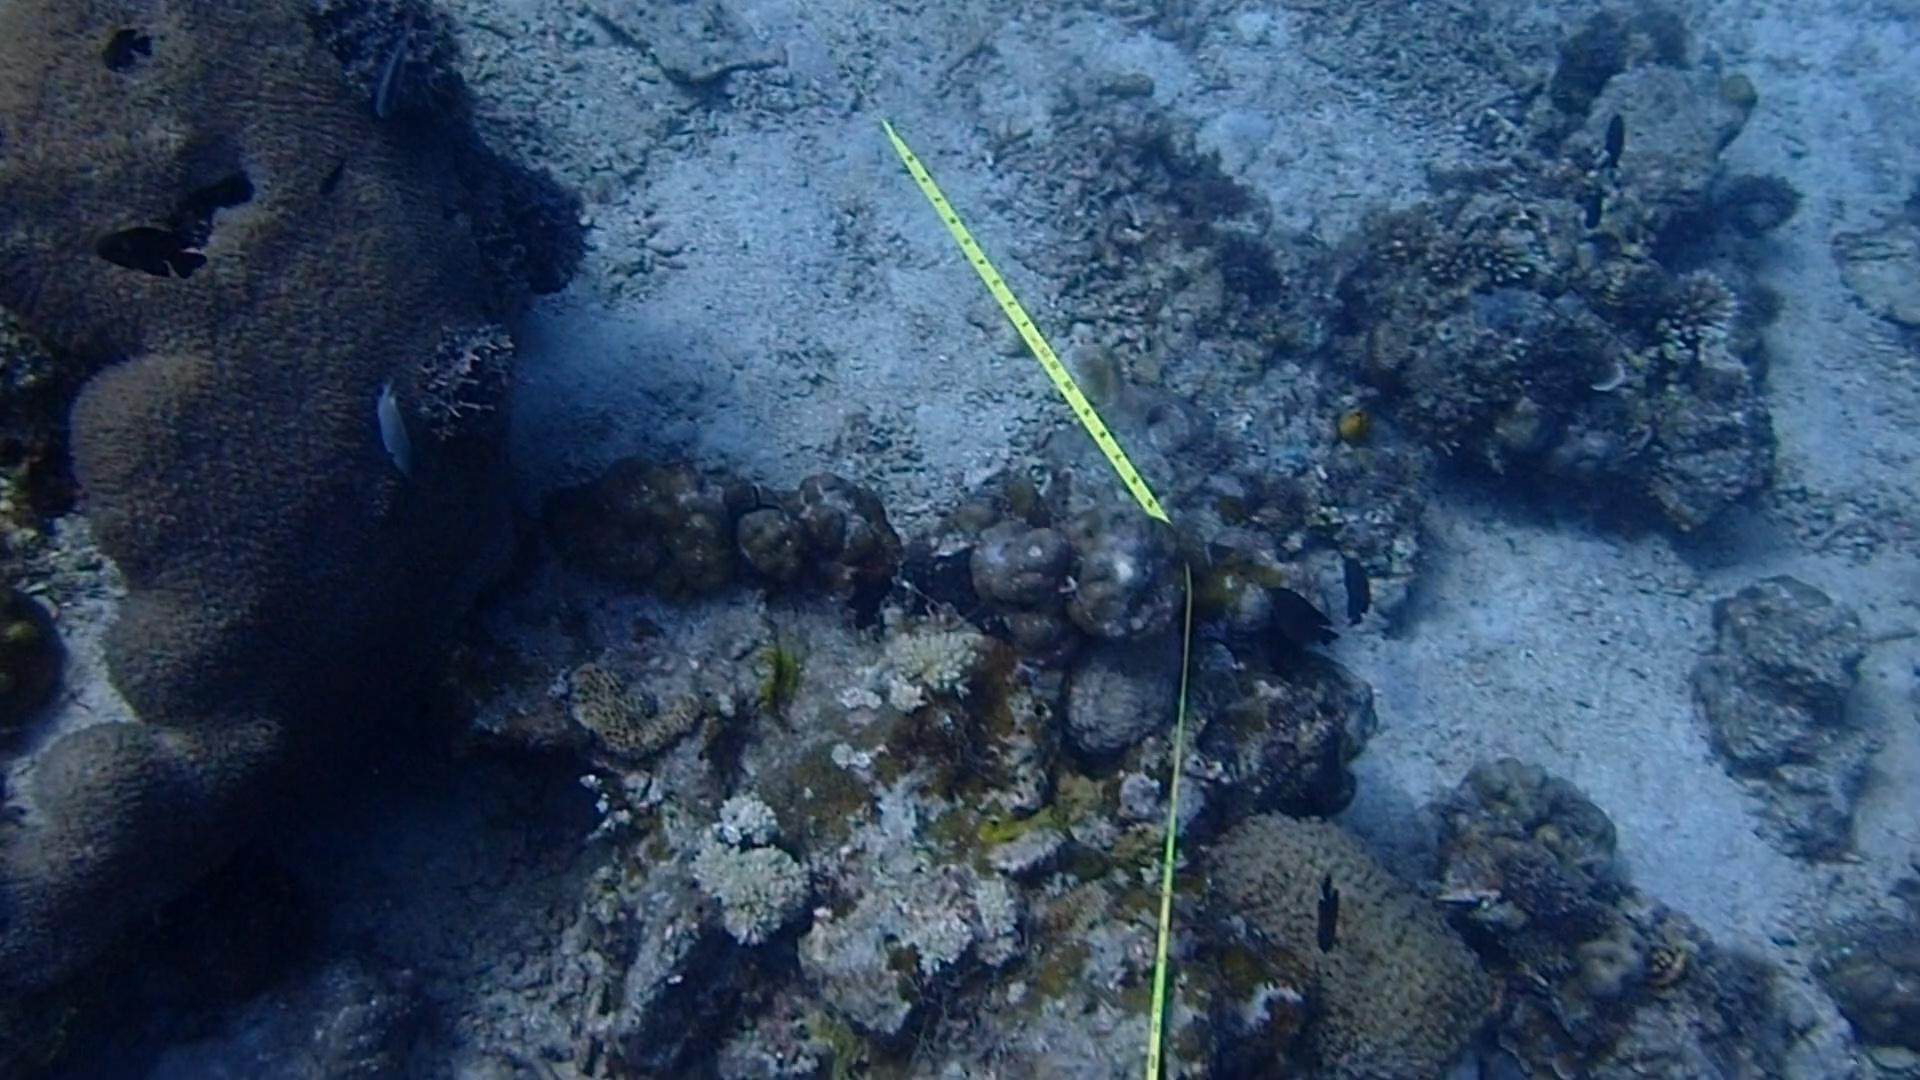Dark Fish: (83, 216, 203, 302), (1259, 575, 1342, 662), (1441, 898, 1524, 981), (1328, 535, 1386, 628), (1303, 870, 1362, 957), (90, 18, 158, 76), (301, 142, 359, 211), (1598, 105, 1642, 174), (1577, 182, 1617, 235)
Light Fish: (360, 376, 429, 484), (353, 24, 419, 135)
